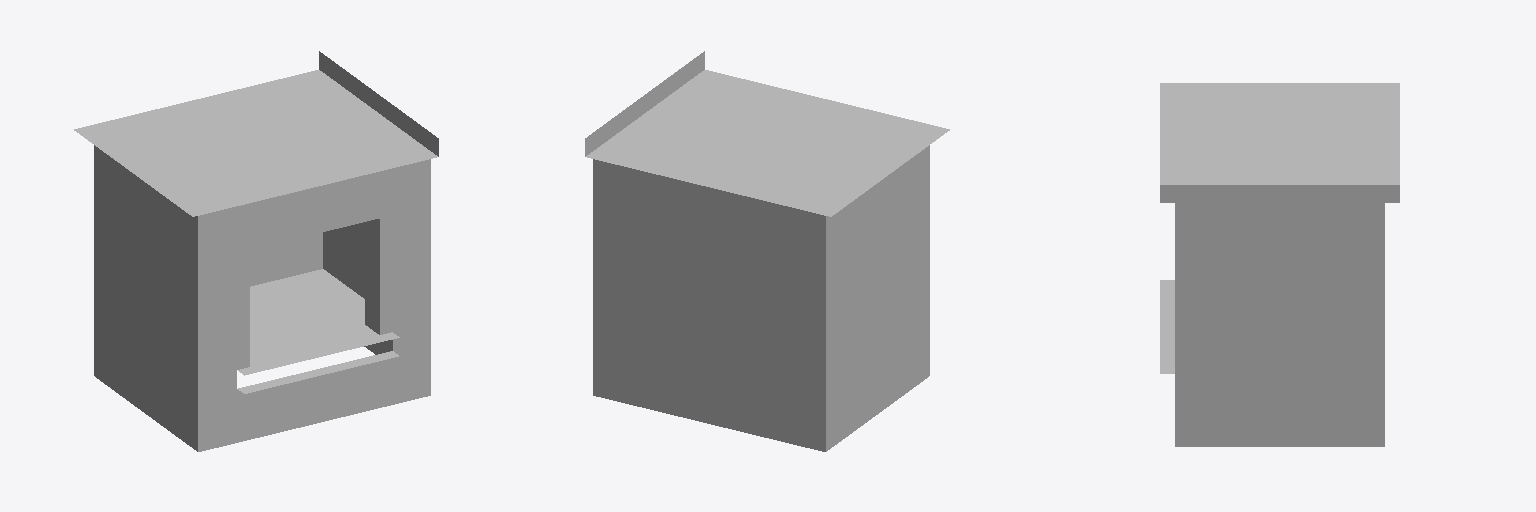
The model's file is counterL__181.obj.
3 views of the same model, side by side, from view 1: azimuth 30°, elevation 25°; view 2: azimuth 150°, elevation 25°; view 3: azimuth 270°, elevation 25° (orthographic).
Parts seen in each view (by area): view 1: grp181; view 2: grp181; view 3: grp181.
Boxes of the visible parts, <box> form: grp181: <box>74,51,438,451</box>; grp181: <box>585,51,949,451</box>; grp181: <box>1160,83,1399,446</box>.
Size of the model in its own units: 38 by 38.75 by 32.